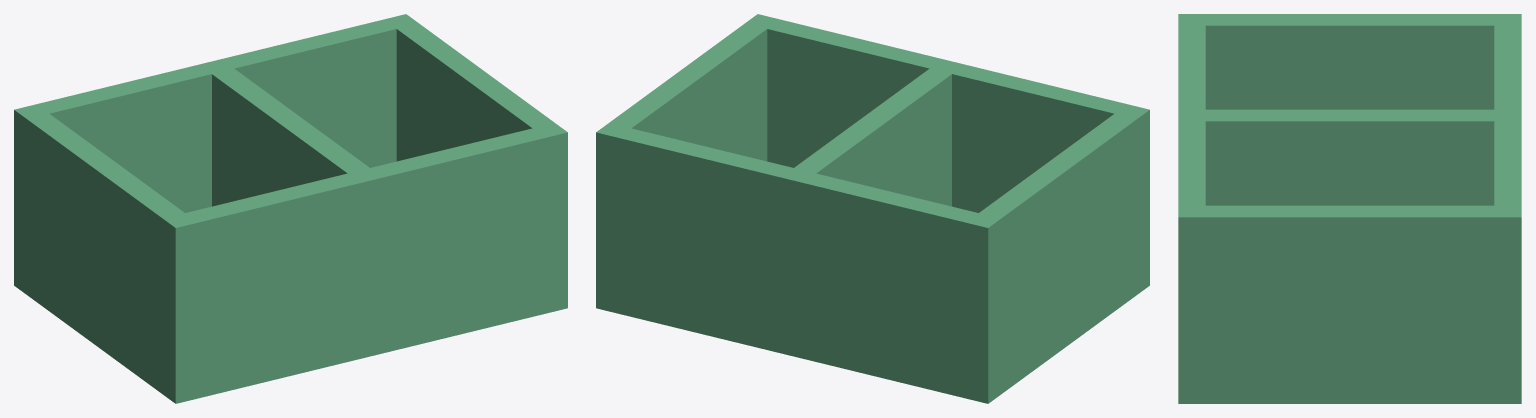
The picture shows the model from 3 angles, left to right: view 1: azimuth 30°, elevation 25°; view 2: azimuth 150°, elevation 25°; view 3: azimuth 270°, elevation 25°; orthographic projection. The views are drawn at different scales.
Parts seen in each view (by area): view 1: OrganizerWall_export, OrganizerWall.001_export, OrganizerWall.002_export, OrganizerWall.003_export, OrganizerWall.004_export, OrganizerFloor_export; view 2: OrganizerWall.001_export, OrganizerWall_export, OrganizerWall.002_export, OrganizerWall.003_export, OrganizerWall.004_export, OrganizerFloor_export; view 3: OrganizerWall.003_export, OrganizerWall.004_export, OrganizerWall.002_export, OrganizerWall.001_export, OrganizerWall_export, OrganizerFloor_export.
Part boxes in pixels (box(x1,y1,x2,y2)): OrganizerWall_export: box(162, 123, 567, 403); OrganizerWall.001_export: box(14, 14, 418, 271); OrganizerWall.002_export: box(27, 113, 184, 386); OrganizerWall.003_export: box(396, 23, 554, 161); OrganizerWall.004_export: box(212, 68, 369, 206); OrganizerFloor_export: box(14, 262, 503, 403); OrganizerWall.001_export: box(596, 123, 1001, 403); OrganizerWall_export: box(745, 14, 1149, 271); OrganizerWall.002_export: box(979, 113, 1136, 370); OrganizerWall.003_export: box(609, 23, 767, 161); OrganizerWall.004_export: box(794, 68, 951, 206); OrganizerFloor_export: box(664, 262, 1149, 403); OrganizerWall.003_export: box(1205, 205, 1494, 403); OrganizerWall.004_export: box(1205, 109, 1494, 205); OrganizerWall.002_export: box(1205, 14, 1494, 109); OrganizerWall.001_export: box(1494, 14, 1521, 403); OrganizerWall_export: box(1178, 14, 1205, 403); OrganizerFloor_export: box(1178, 379, 1521, 403).
Size of the model in its own units: 0.07 by 0.03 by 0.05.
